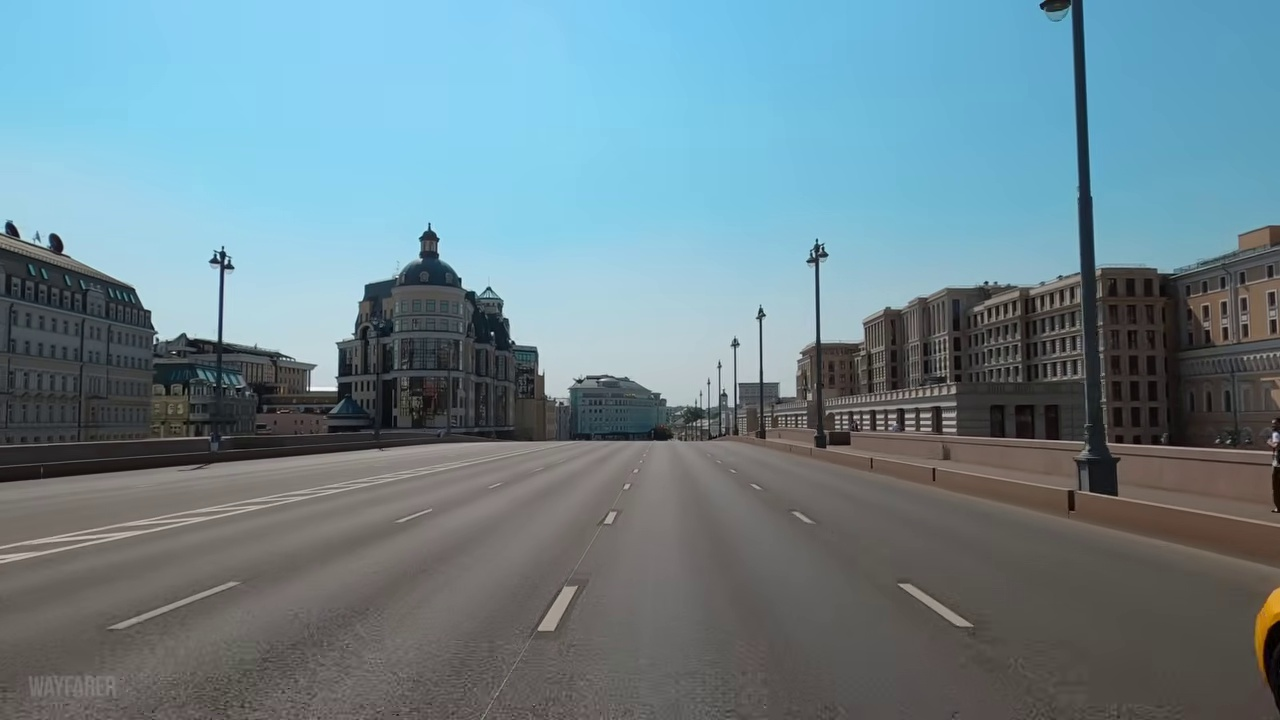acesa: (1267, 590, 1279, 628)
apagada: (206, 246, 238, 279), (802, 241, 832, 270)
